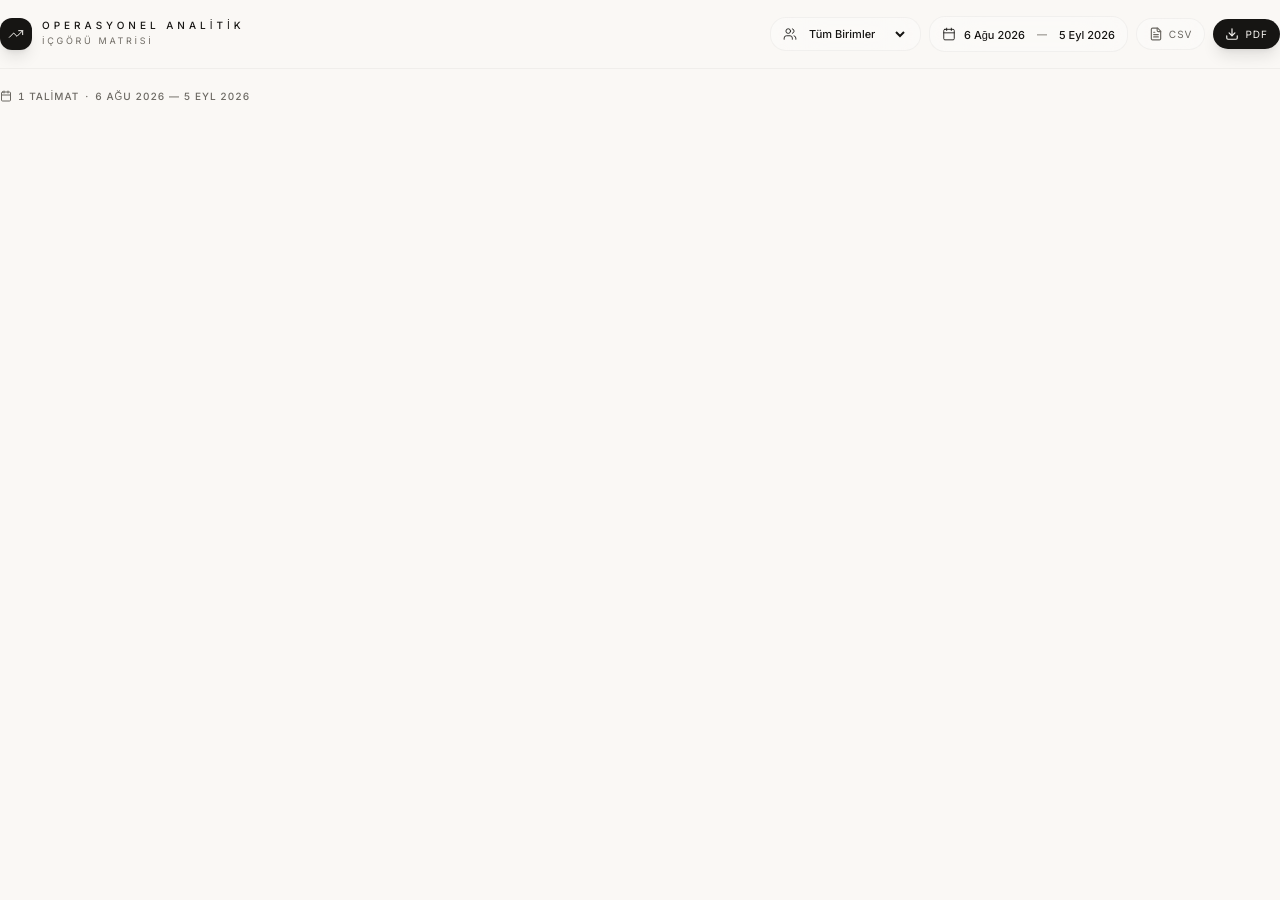
Test: Reports — tarih aralığı filtresi (özel takvim) › takvim yalnızca takvim ikonuna/butona tıklanınca açılır, kapalıyken günler görünmez
Step 1. Click the button with aria-label "Rapor başlangıç tarihi" → {"x": 995, "y": 36}, box [964,28,1025,43]
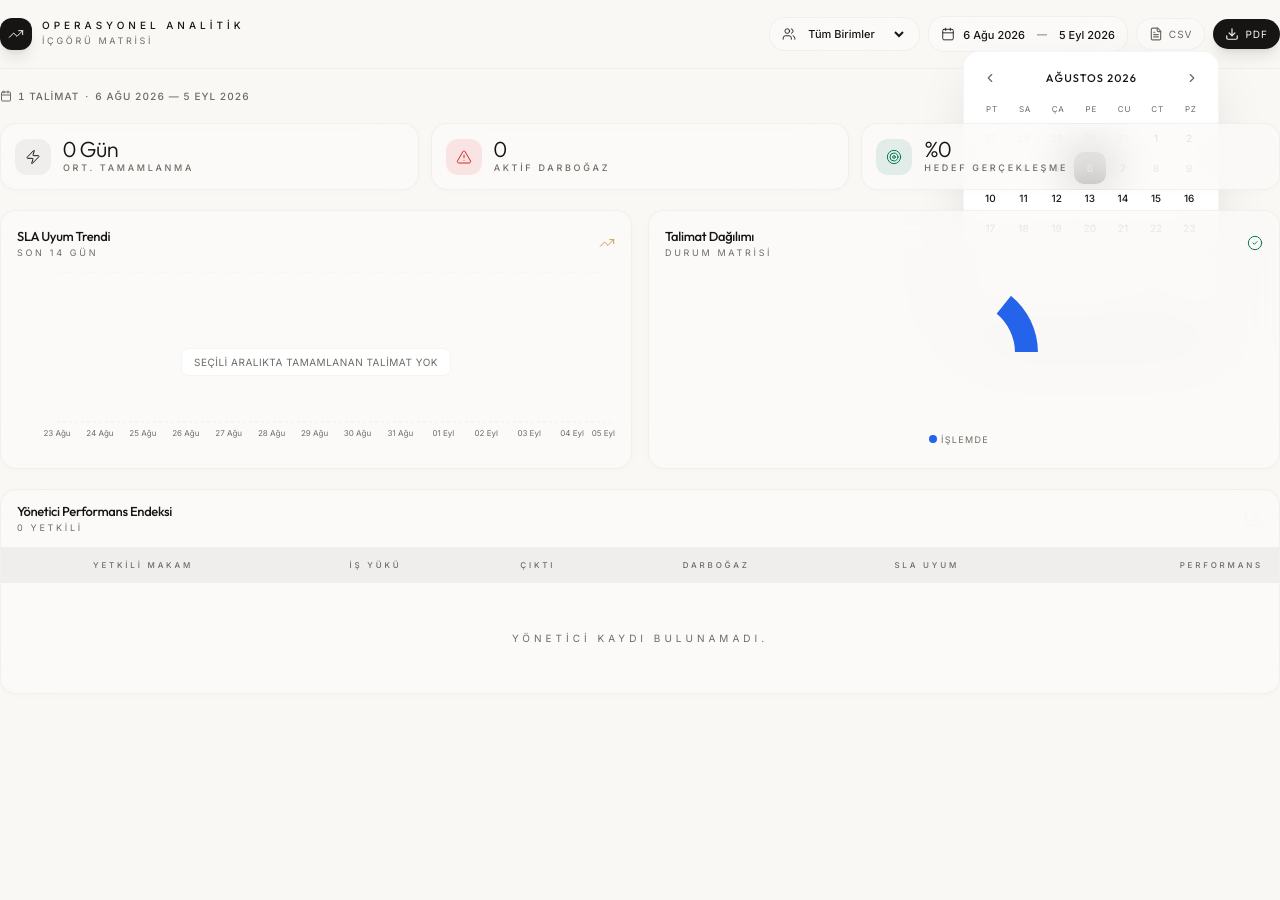
Expected: the dialog named "Rapor başlangıç tarihi" is shown, [963,51,1219,315]
